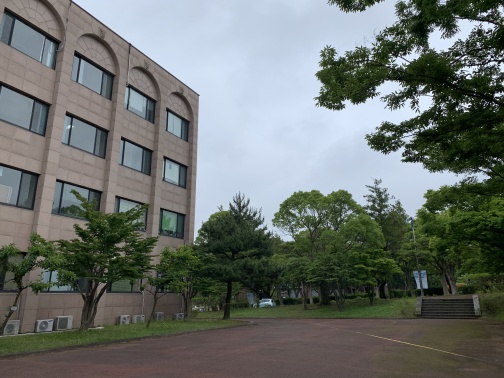Natural Science2: (3, 1, 195, 330)
